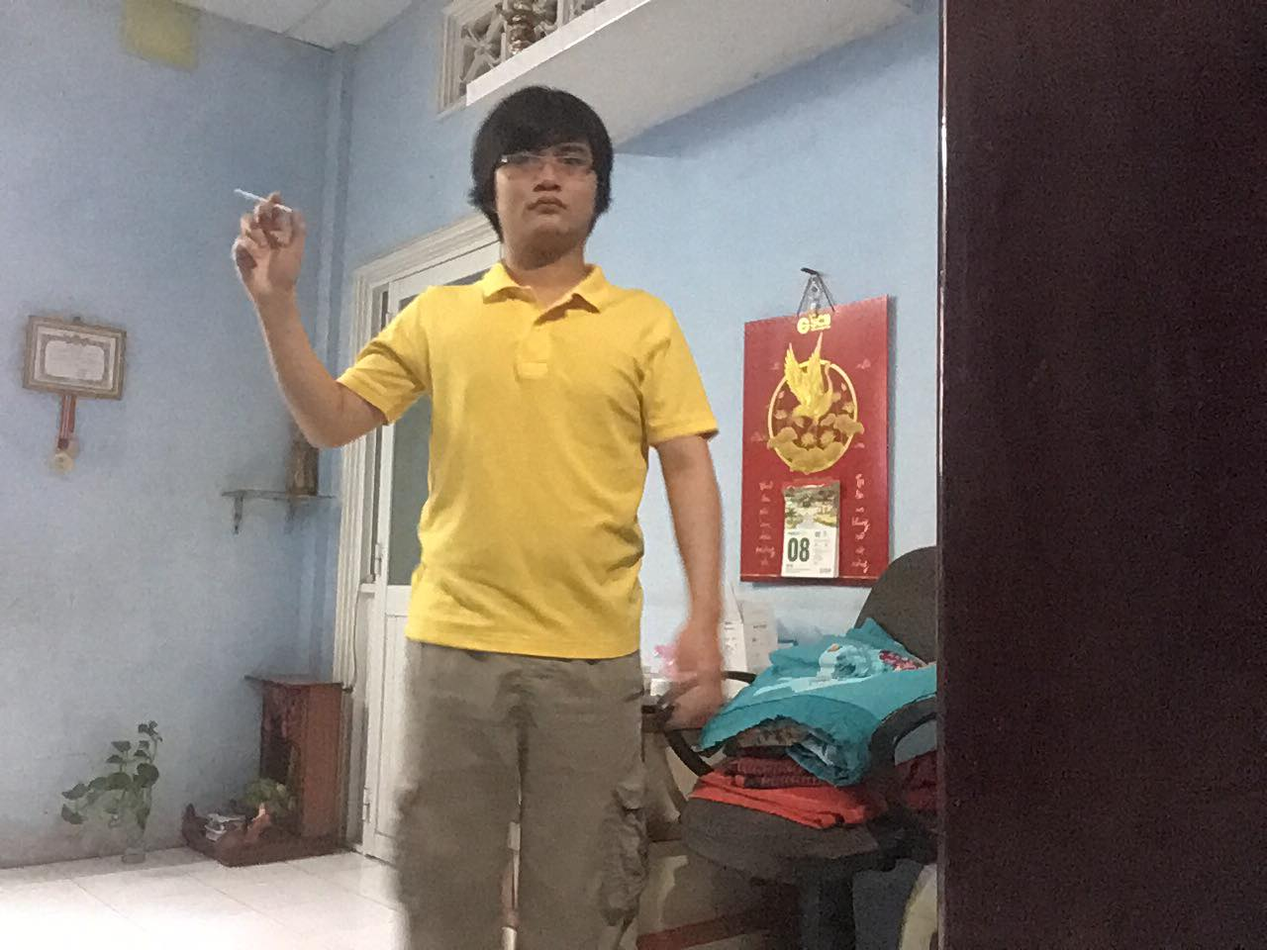cigarette: (230, 184, 268, 204)
person: (232, 126, 740, 944)
